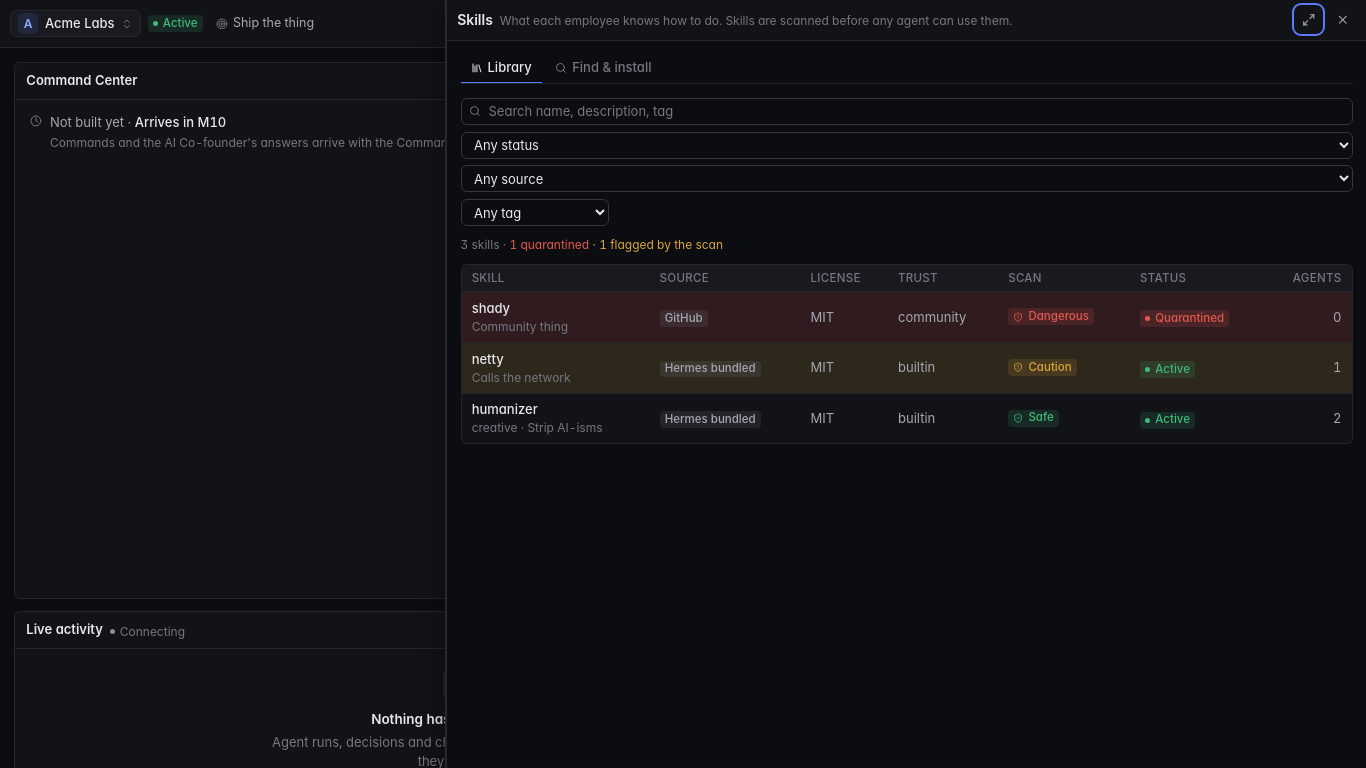
Test: Skills panel: catalog install › installs and shows license, trust and scan outcome including quarantine
This screenshot has width=1366, height=768.
Click the tab "Find & install" at (603, 69), box [545, 54, 662, 84]
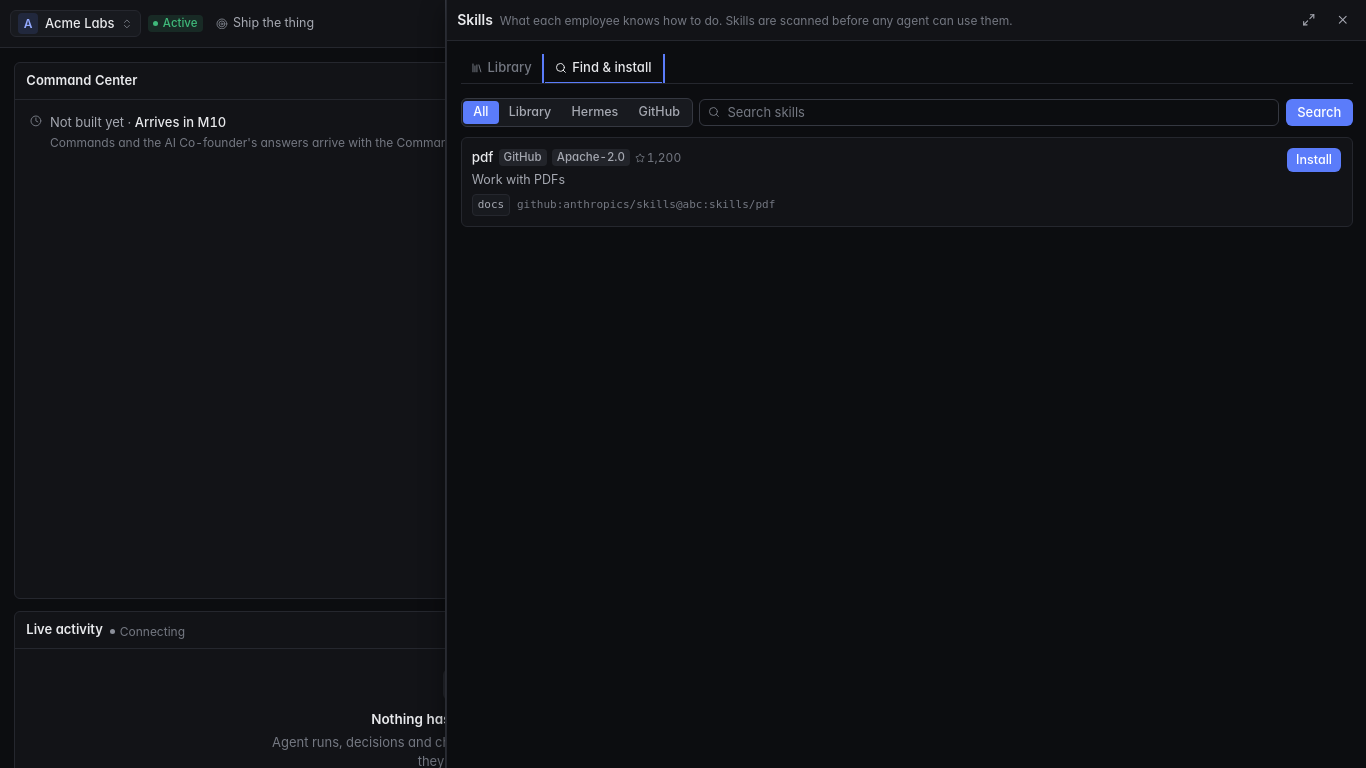
Click the button "Install" at (1314, 160), box [1287, 148, 1341, 172]
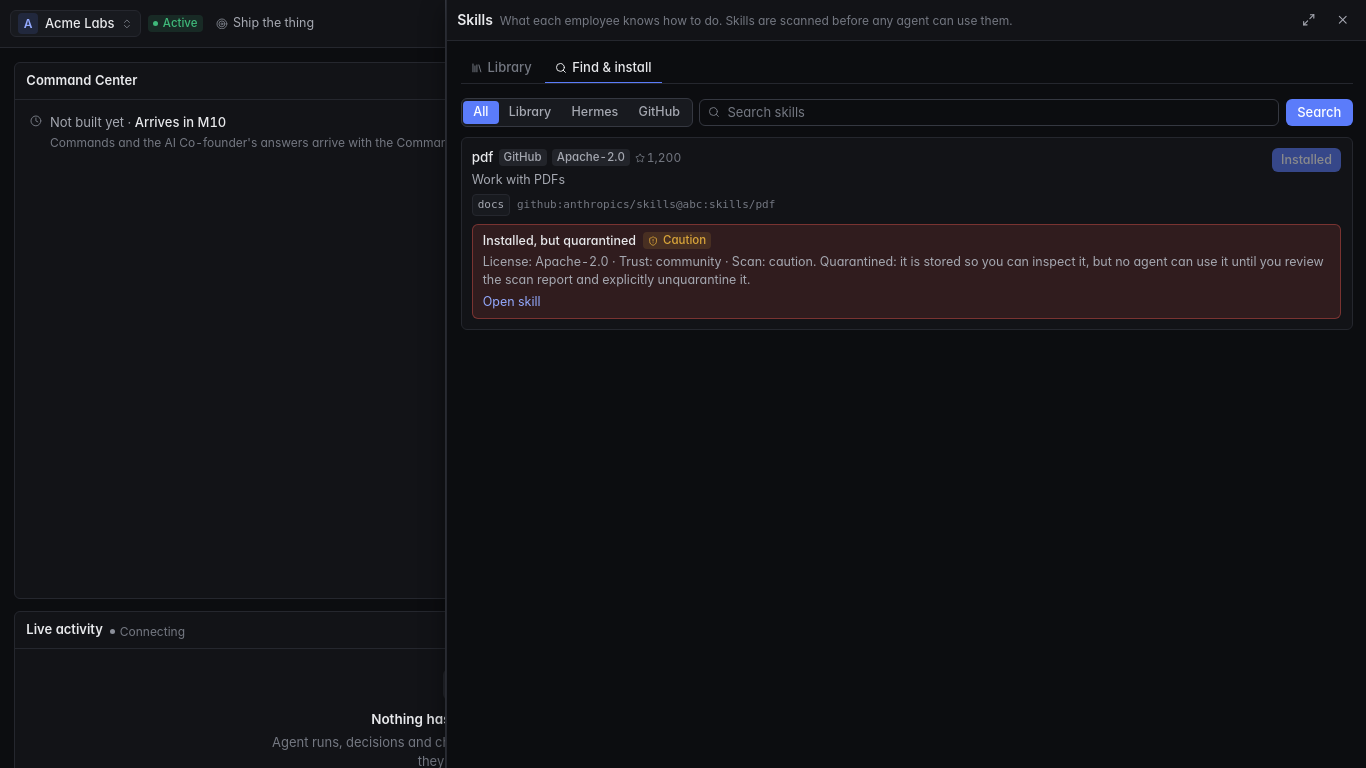
Expected: the text "Installed, but quarantined" is shown, [483, 232, 636, 250]
Expected: the message shows "License: Apache-2.0", [483, 254, 1324, 287]
Expected: the message shows "Scan: caution", [483, 254, 1324, 287]
